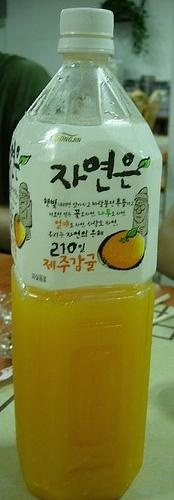bottle: (6, 5, 157, 498)
